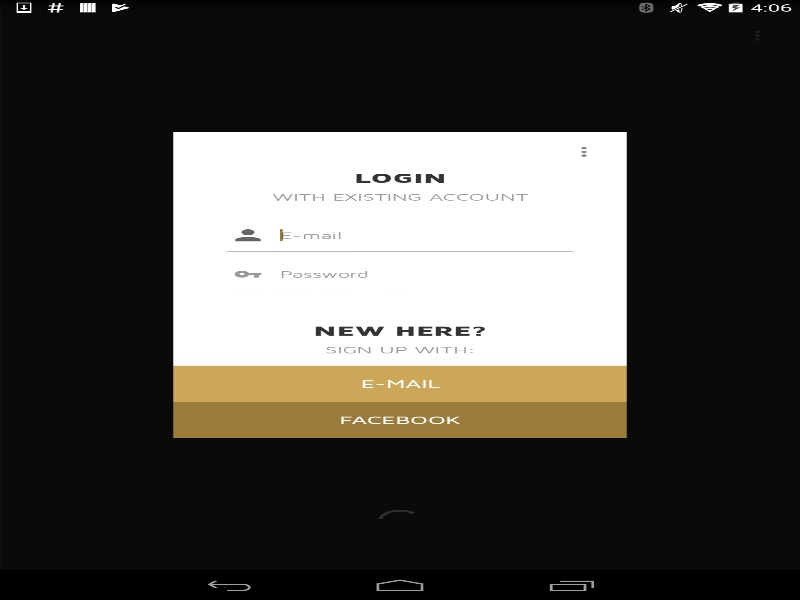Button: (173, 401, 626, 438), (173, 365, 626, 401), (184, 131, 258, 171)
Input: (226, 257, 573, 290), (226, 219, 573, 251)
